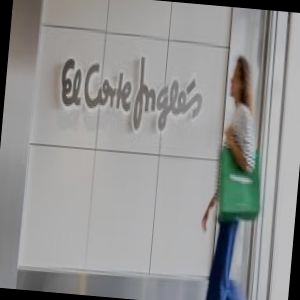corte_ingles: (179, 26, 235, 76)
